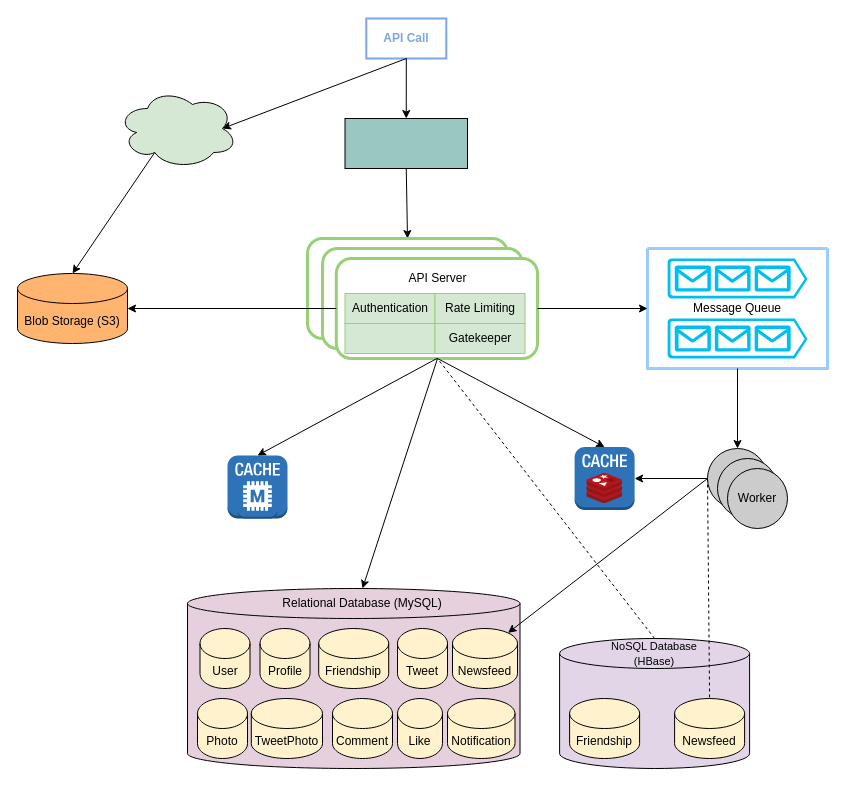
Some shapes in this 846 by 786 pixel diagram are drawn without their labels. Each missing label, with the centre of its shape:
Image CDN: point (177, 128)
Load Balancing Round Robin: point (406, 143)
Pagination: point (389, 338)
